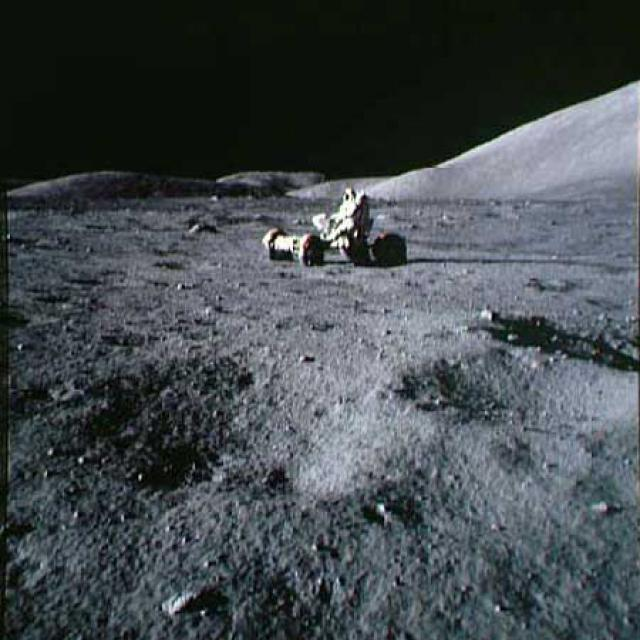artifact: (253, 183, 409, 272)
crater: (482, 300, 639, 376)
